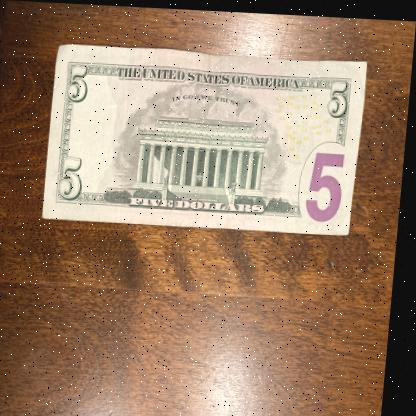five-back: (45, 42, 369, 233)
